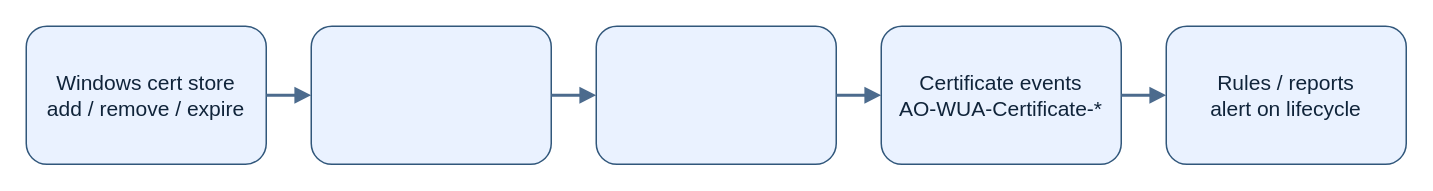
The diagram is 1433 pixels wide and 191 high, and some of its shapes have lost their labels. Here are the shapes that lost their labels. From the top down, the box of each, then its label:
(310, 25, 551, 164): Windows Agent observe state
(595, 25, 836, 164): Supervisor template + apply
